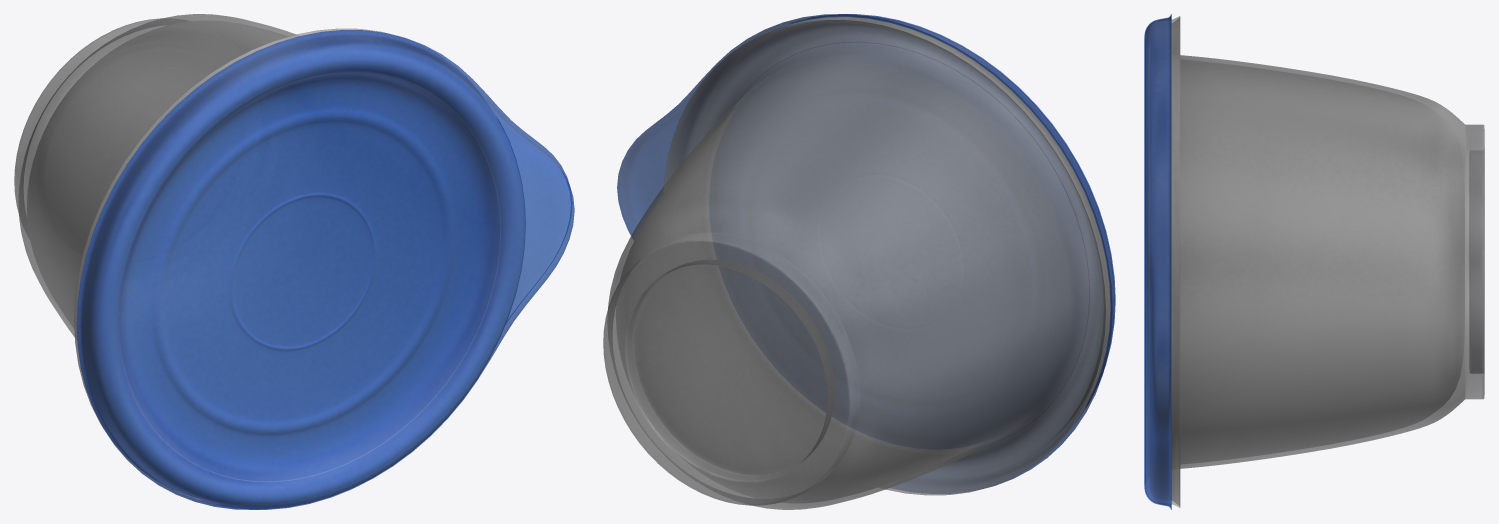
The model's file is 14044_Plastic_Food_Storage_small_round_v1_L3.obj.
The picture shows the model from 3 angles, left to right: view 1: azimuth 30°, elevation 25°; view 2: azimuth 150°, elevation 25°; view 3: azimuth 270°, elevation 25°; orthographic projection. The views are drawn at different scales.
Parts seen in each view (by area): view 1: 14044_Plastic_Food_Storage_small_round; view 2: 14044_Plastic_Food_Storage_small_round; view 3: 14044_Plastic_Food_Storage_small_round.
Boxes of the visible parts, x1,y1,x2,y2 form: 14044_Plastic_Food_Storage_small_round: [14, 14, 574, 509]; 14044_Plastic_Food_Storage_small_round: [603, 14, 1115, 509]; 14044_Plastic_Food_Storage_small_round: [1144, 14, 1484, 509].
Size of the model in its own units: 30.35 by 27.36 by 18.74.
Materials: 1 (1 with a texture image).
